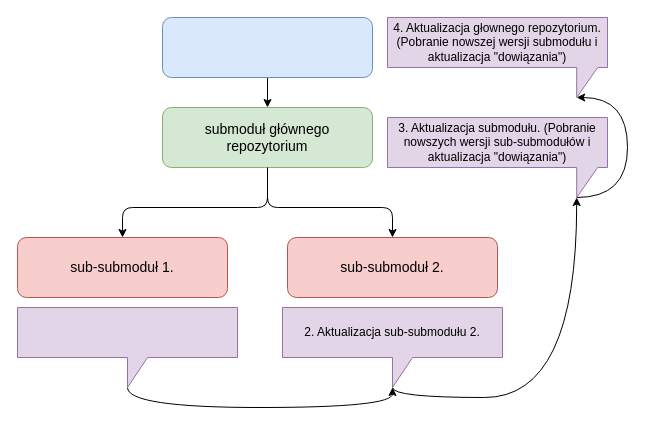
The diagram is 645 pixels wide and 425 high, and some of its shapes have lost their labels. Each missing label, with the box of its shape:
1. Aktualizacja sub-submodułu 1.: (16, 306, 238, 388)
główne repozytorium: (162, 16, 372, 78)
